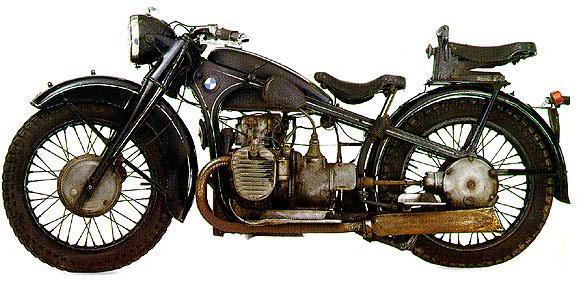motorcycle: (2, 3, 583, 279)
